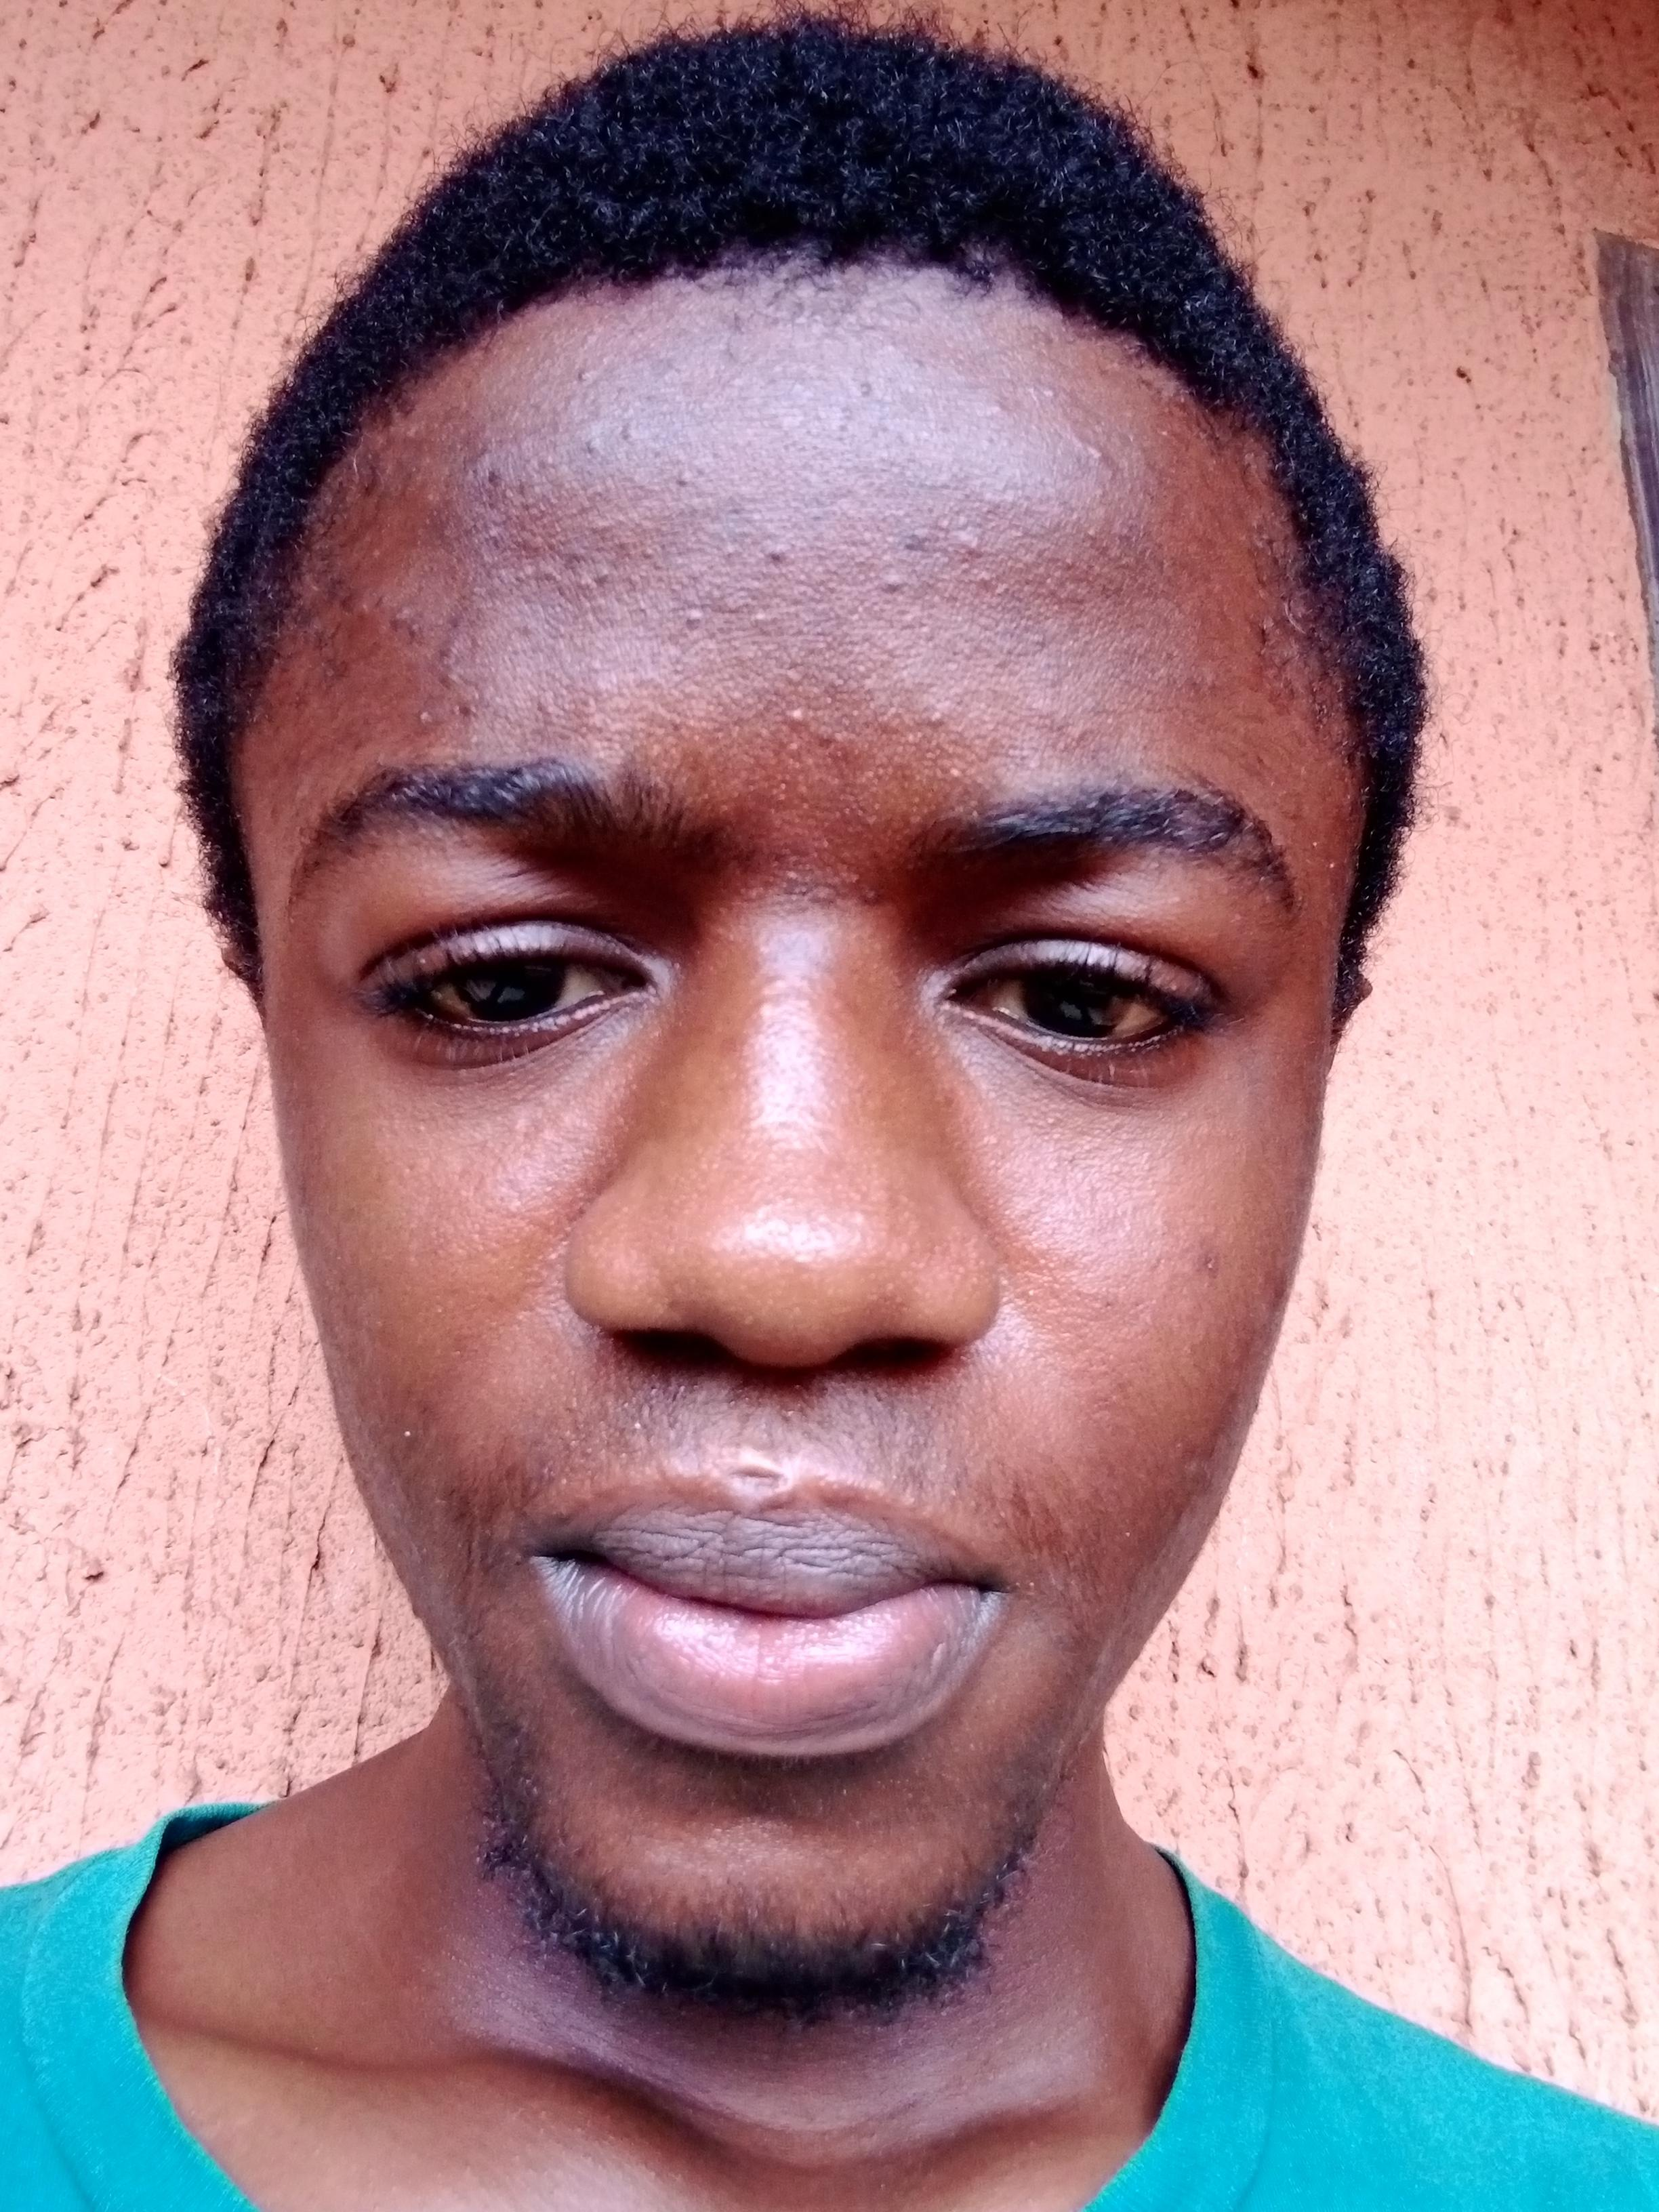Acne: (775, 697, 856, 765), (432, 636, 491, 726), (570, 543, 655, 603), (568, 320, 624, 397), (523, 521, 565, 594), (1047, 521, 1100, 578), (509, 444, 556, 500), (354, 592, 429, 627), (831, 876, 887, 920), (580, 418, 643, 456), (833, 376, 877, 427), (1190, 1238, 1229, 1282), (465, 524, 514, 556), (1075, 435, 1117, 470), (945, 524, 993, 554), (894, 519, 945, 547), (871, 570, 913, 601), (479, 458, 507, 505), (908, 705, 945, 740), (758, 535, 795, 568), (979, 392, 1014, 425), (676, 453, 713, 484), (674, 601, 709, 632), (413, 695, 441, 733), (746, 604, 775, 634), (418, 479, 441, 512), (781, 664, 809, 688), (1035, 381, 1060, 408), (906, 348, 931, 374), (587, 516, 615, 536), (723, 535, 742, 564), (971, 568, 992, 590)
